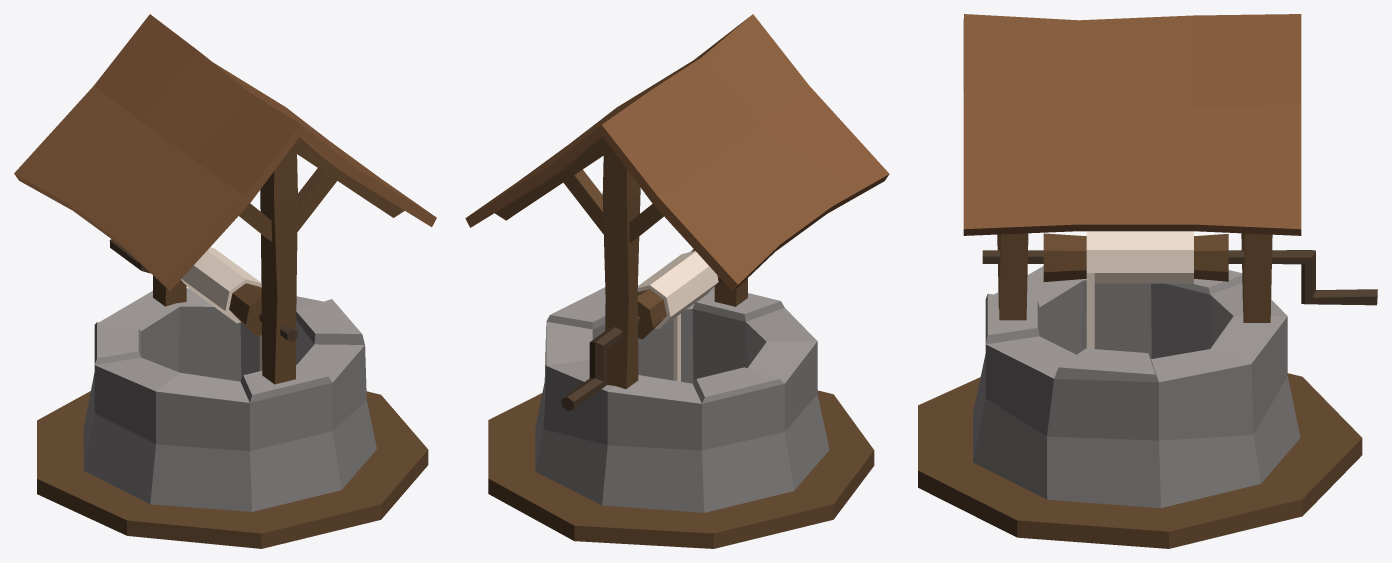
The model's file is well.7d351f24.glb.
3 renders of one model, left to right at view 1: azimuth 30°, elevation 25°; view 2: azimuth 150°, elevation 25°; view 3: azimuth 270°, elevation 25°, orthographic. The views are drawn at different scales.
Visible parts, largest first — view 1: well; view 2: well; view 3: well.
Boxes of the visible parts, x1,y1,x2,y2 form: well: [14, 14, 436, 548]; well: [465, 14, 889, 548]; well: [918, 14, 1377, 548].
Size of the model in its own units: 1.97 by 2.16 by 2.04.
